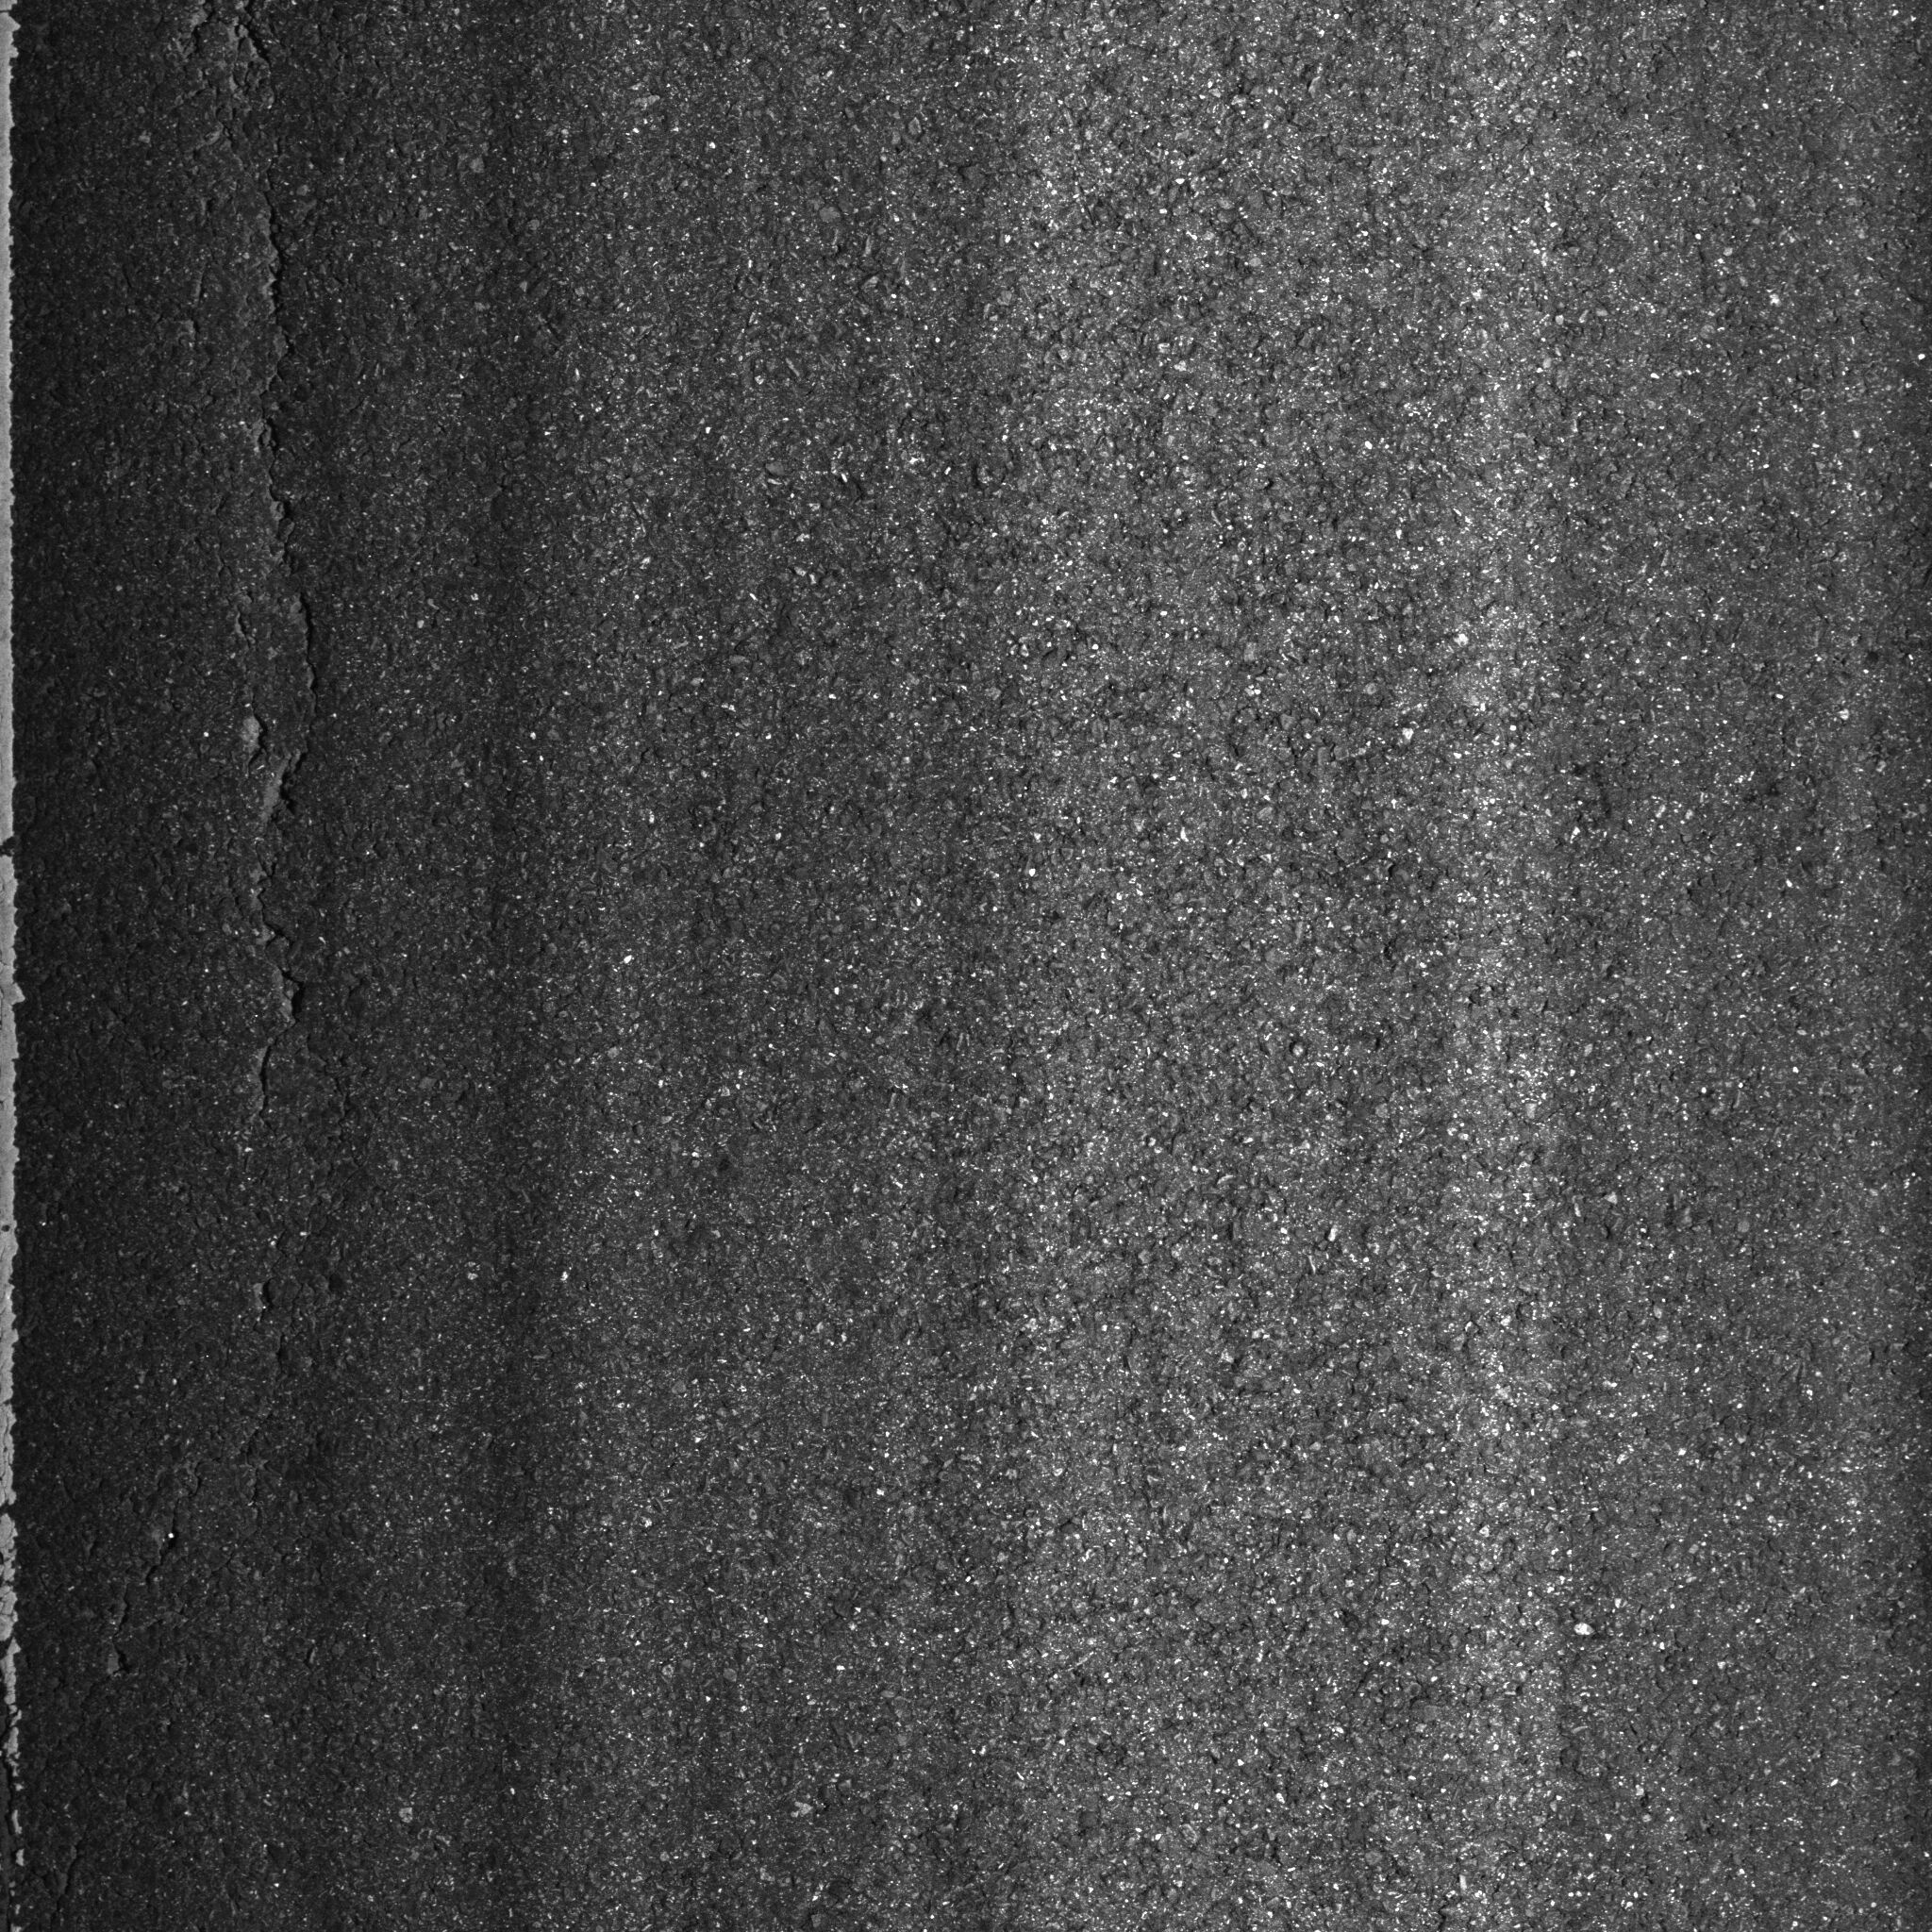longitudinal: (145, 5, 393, 1476)
